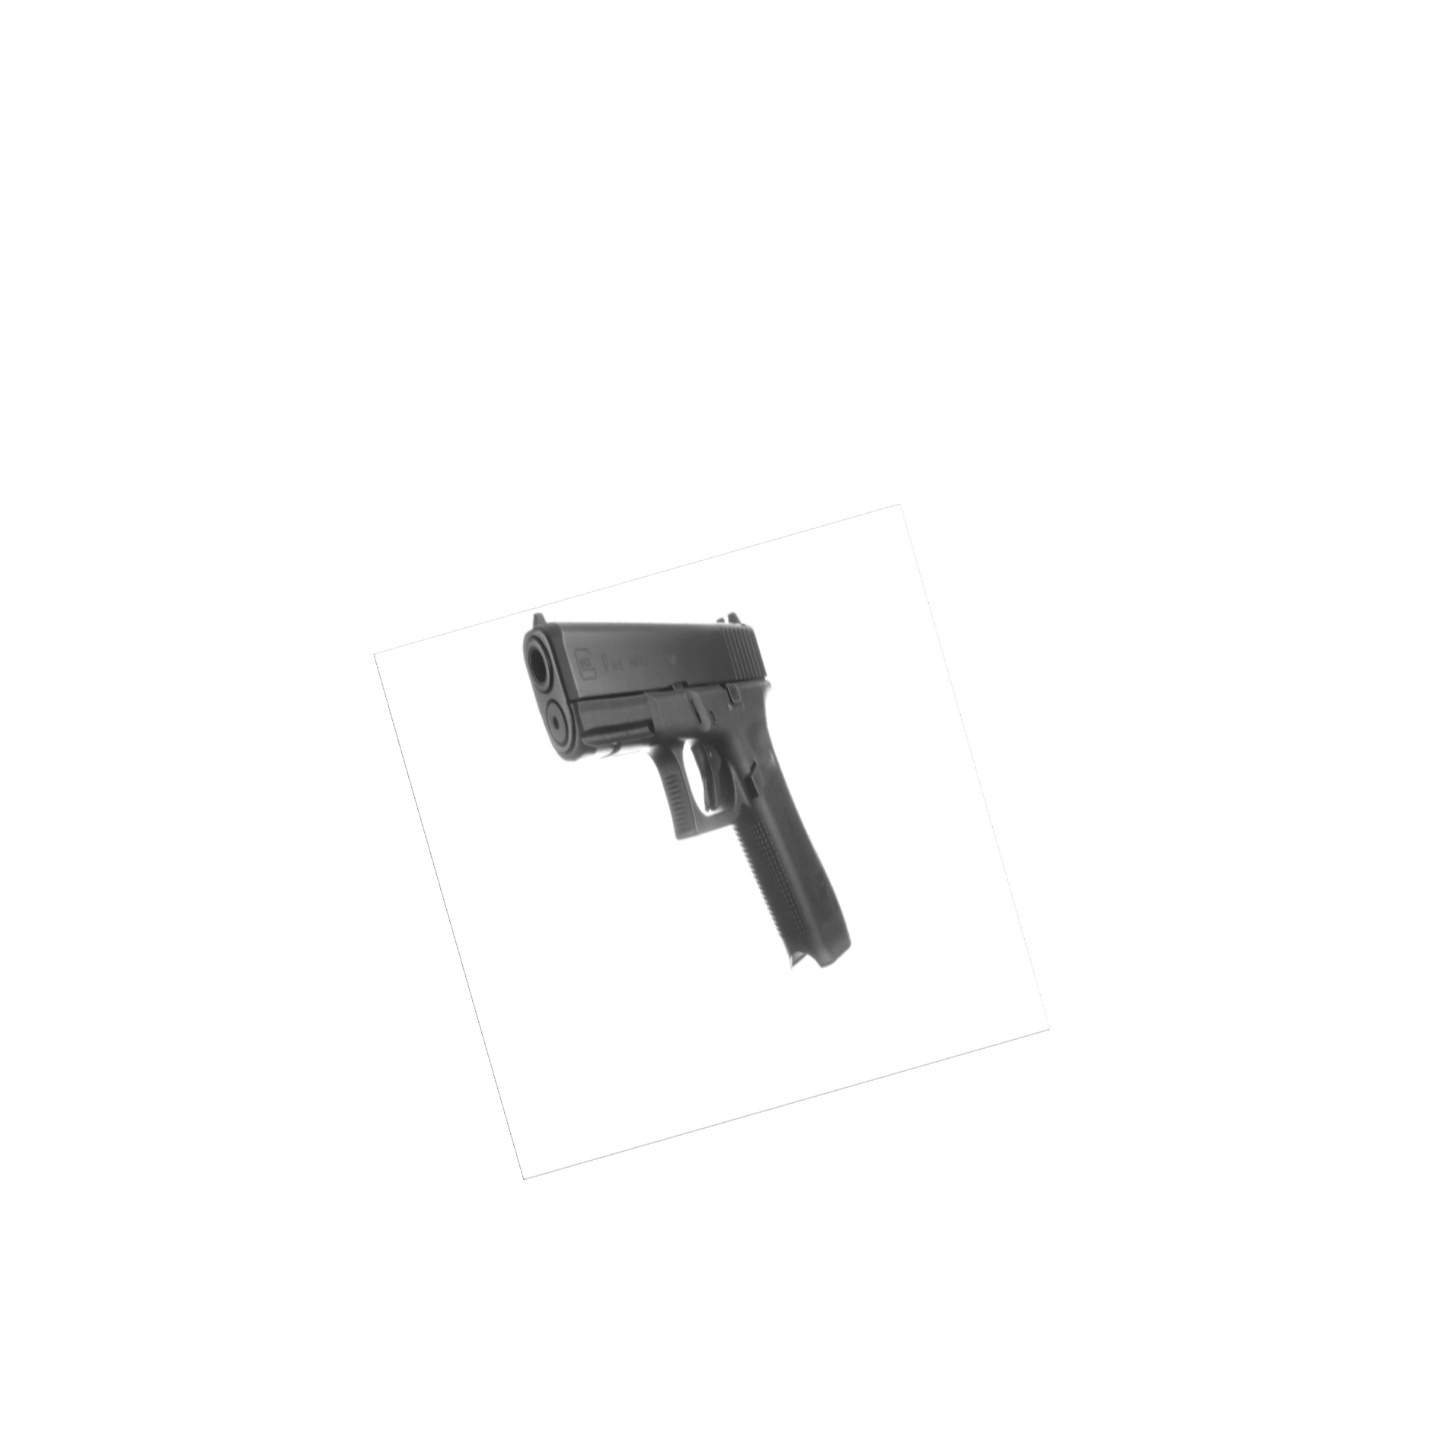gun: (523, 611, 849, 965)
